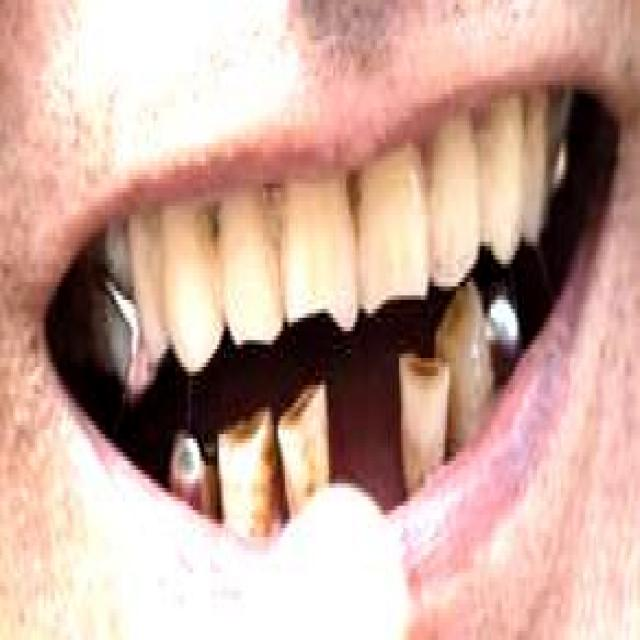hypodontia: (323, 362, 407, 513)
